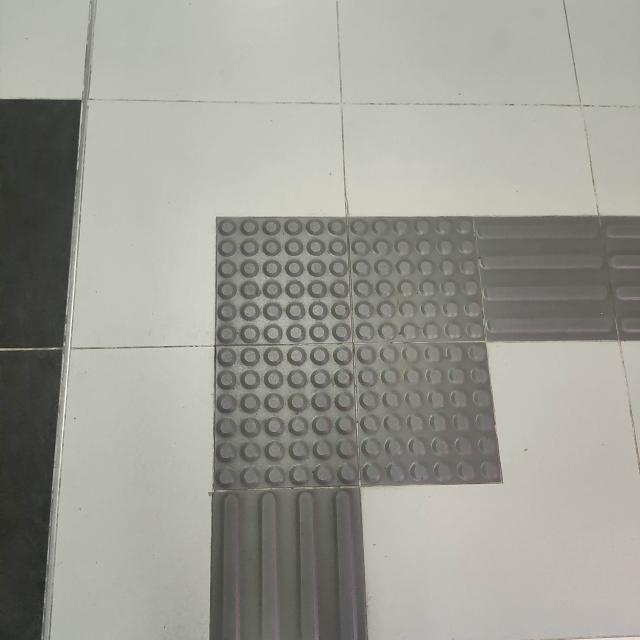kanan: (186, 172, 640, 568)
